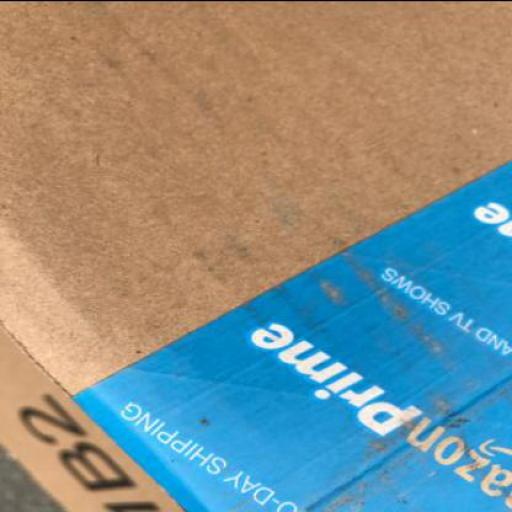cardboard: (0, 1, 512, 511)
